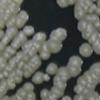white: (77, 41, 93, 59), (52, 75, 67, 93), (48, 38, 63, 55), (66, 62, 82, 77), (30, 70, 46, 85), (53, 26, 68, 41), (68, 55, 84, 68), (48, 85, 64, 98), (31, 30, 47, 43), (45, 62, 59, 76), (4, 24, 18, 38), (87, 30, 100, 45), (54, 66, 70, 77), (75, 19, 88, 32), (22, 24, 35, 37), (14, 16, 26, 29), (38, 86, 49, 100), (54, 0, 69, 10), (85, 22, 97, 34), (16, 30, 28, 42), (9, 38, 21, 50), (30, 54, 42, 66), (18, 9, 29, 22), (40, 39, 50, 53), (26, 61, 40, 71), (8, 56, 22, 66), (0, 79, 8, 96), (81, 30, 92, 42), (41, 72, 52, 84), (39, 50, 51, 61), (58, 74, 72, 83), (12, 74, 23, 85), (85, 14, 100, 22), (72, 5, 80, 20), (25, 90, 37, 100), (26, 48, 38, 58), (7, 59, 17, 71), (3, 20, 16, 29), (19, 49, 32, 58), (0, 55, 7, 71), (24, 82, 35, 92), (0, 35, 10, 46), (17, 87, 27, 98), (15, 51, 25, 62), (78, 8, 87, 20), (46, 91, 58, 100), (49, 30, 58, 42), (93, 42, 100, 56), (92, 36, 100, 48), (12, 93, 25, 100), (3, 45, 13, 54), (2, 52, 12, 61), (20, 42, 30, 51), (23, 70, 32, 80), (21, 54, 30, 64), (75, 0, 87, 7), (15, 68, 24, 77), (8, 15, 16, 25), (6, 74, 14, 84), (18, 61, 26, 71), (60, 94, 73, 100), (0, 94, 13, 100), (0, 70, 7, 81), (94, 20, 100, 32), (33, 42, 41, 51), (27, 40, 36, 48), (7, 82, 16, 90), (10, 69, 18, 78), (84, 0, 94, 7), (0, 42, 5, 55), (9, 48, 17, 56), (21, 64, 30, 71), (94, 6, 100, 16), (82, 4, 89, 12), (67, 0, 76, 6), (3, 70, 9, 79), (6, 64, 12, 73), (90, 4, 97, 11), (87, 7, 93, 15), (96, 0, 100, 8), (90, 0, 98, 2)
